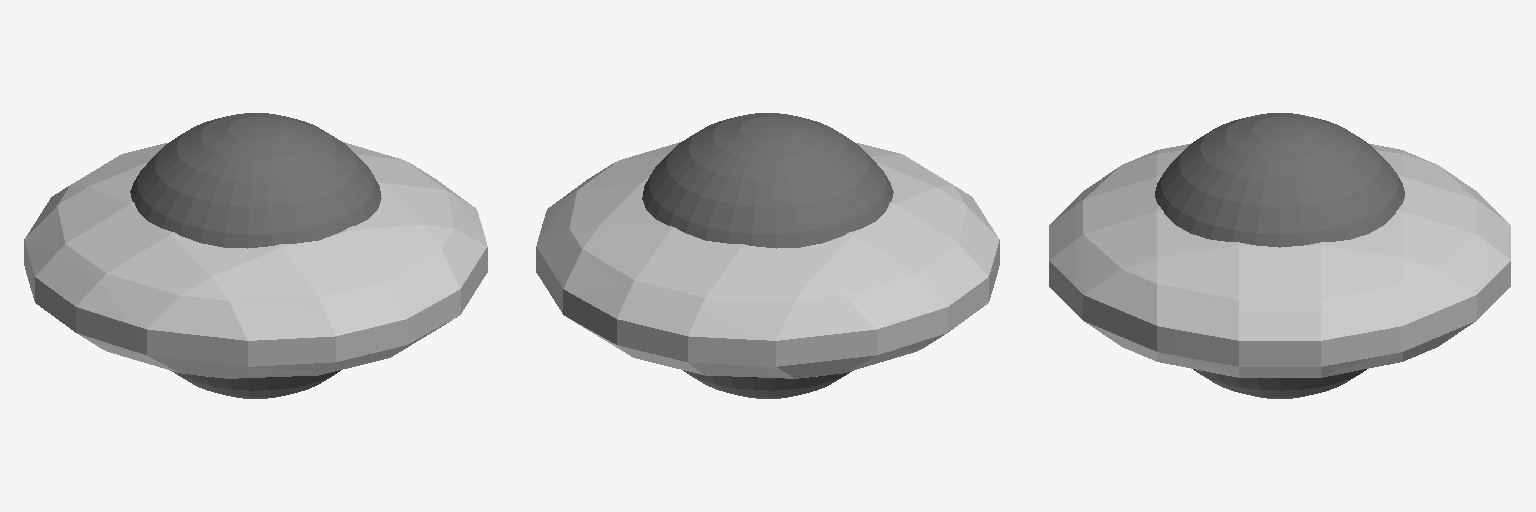
Rendered from ufo2.obj.
3 views of the same model, side by side, from view 1: azimuth 30°, elevation 25°; view 2: azimuth 150°, elevation 25°; view 3: azimuth 270°, elevation 25° (orthographic).
Parts seen in each view (by area): view 1: Mball_Meta, Sphere; view 2: Mball_Meta, Sphere; view 3: Mball_Meta, Sphere.
Part boxes in pixels (x1,y1,x2,y2): Mball_Meta: (24, 142, 487, 378); Sphere: (130, 113, 381, 398); Mball_Meta: (536, 142, 999, 378); Sphere: (642, 113, 893, 398); Mball_Meta: (1049, 143, 1510, 377); Sphere: (1155, 113, 1404, 398).
Size of the model in its own units: 2.26 by 1.4 by 2.26.